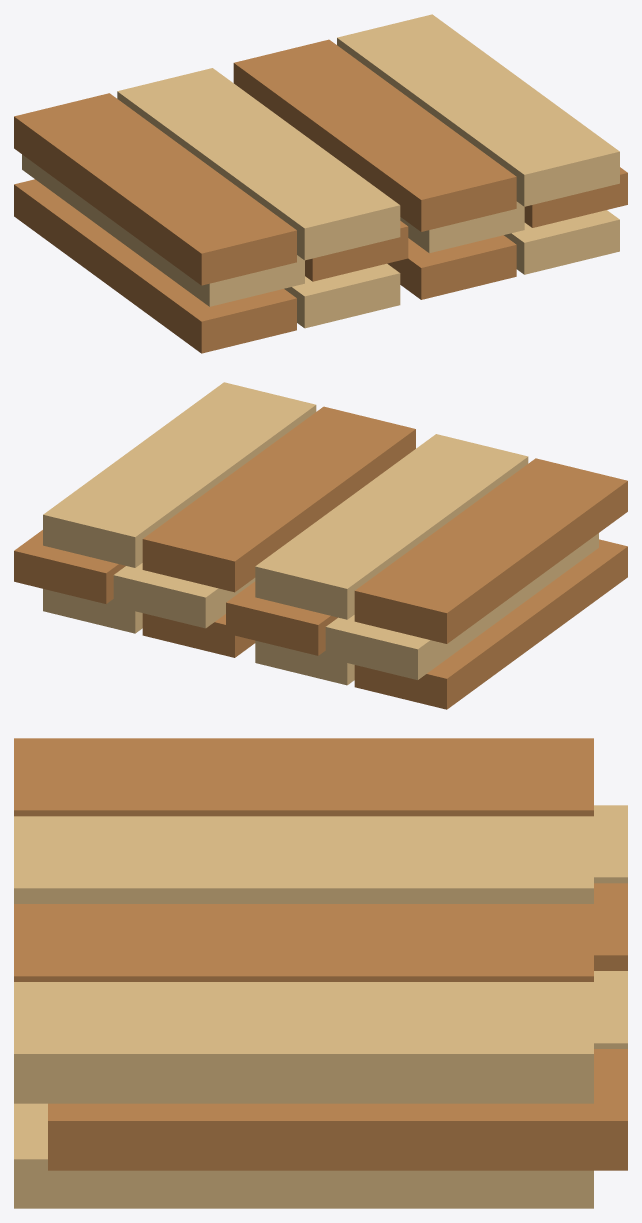
Rendered from trading_post_l1_fill.fbx.
3 renders of one model, top to bottom at view 1: azimuth 30°, elevation 25°; view 2: azimuth 150°, elevation 25°; view 3: azimuth 270°, elevation 25°, orthographic. The views are drawn at different scales.
Visible parts, largest first — view 1: Fill_planks_2, Fill_planks_1; view 2: Fill_planks_2, Fill_planks_1; view 3: Fill_planks_1, Fill_planks_2.
Part boxes in pixels (box(x1,y1,x2,y2)): Fill_planks_2: box(14, 68, 408, 353); Fill_planks_1: box(233, 14, 627, 299); Fill_planks_2: box(226, 434, 627, 709); Fill_planks_1: box(14, 382, 415, 657); Fill_planks_1: box(14, 904, 627, 1208); Fill_planks_2: box(14, 738, 627, 970).
Size of the model in its own units: 0.2748 by 0.06 by 0.216.
